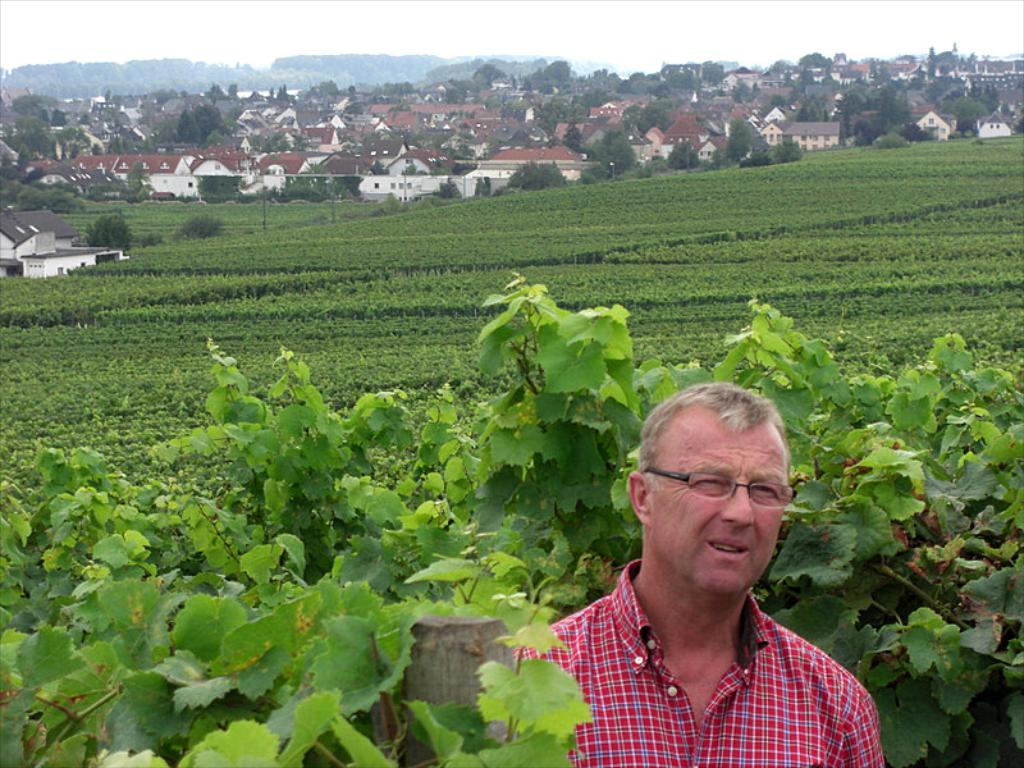Person: (512, 381, 885, 767)
